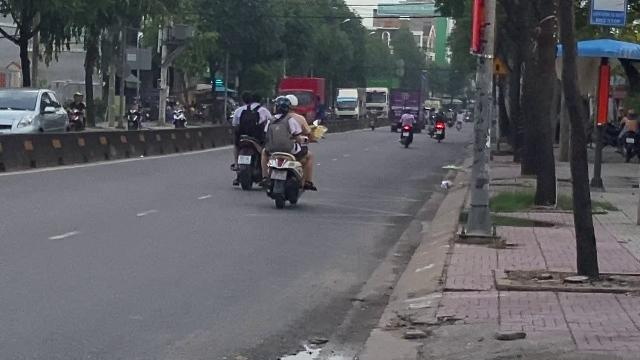helmet: (272, 96, 290, 115), (286, 94, 298, 108)
licenseplate: (270, 168, 286, 178)
motorcyclist: (262, 93, 318, 207)
